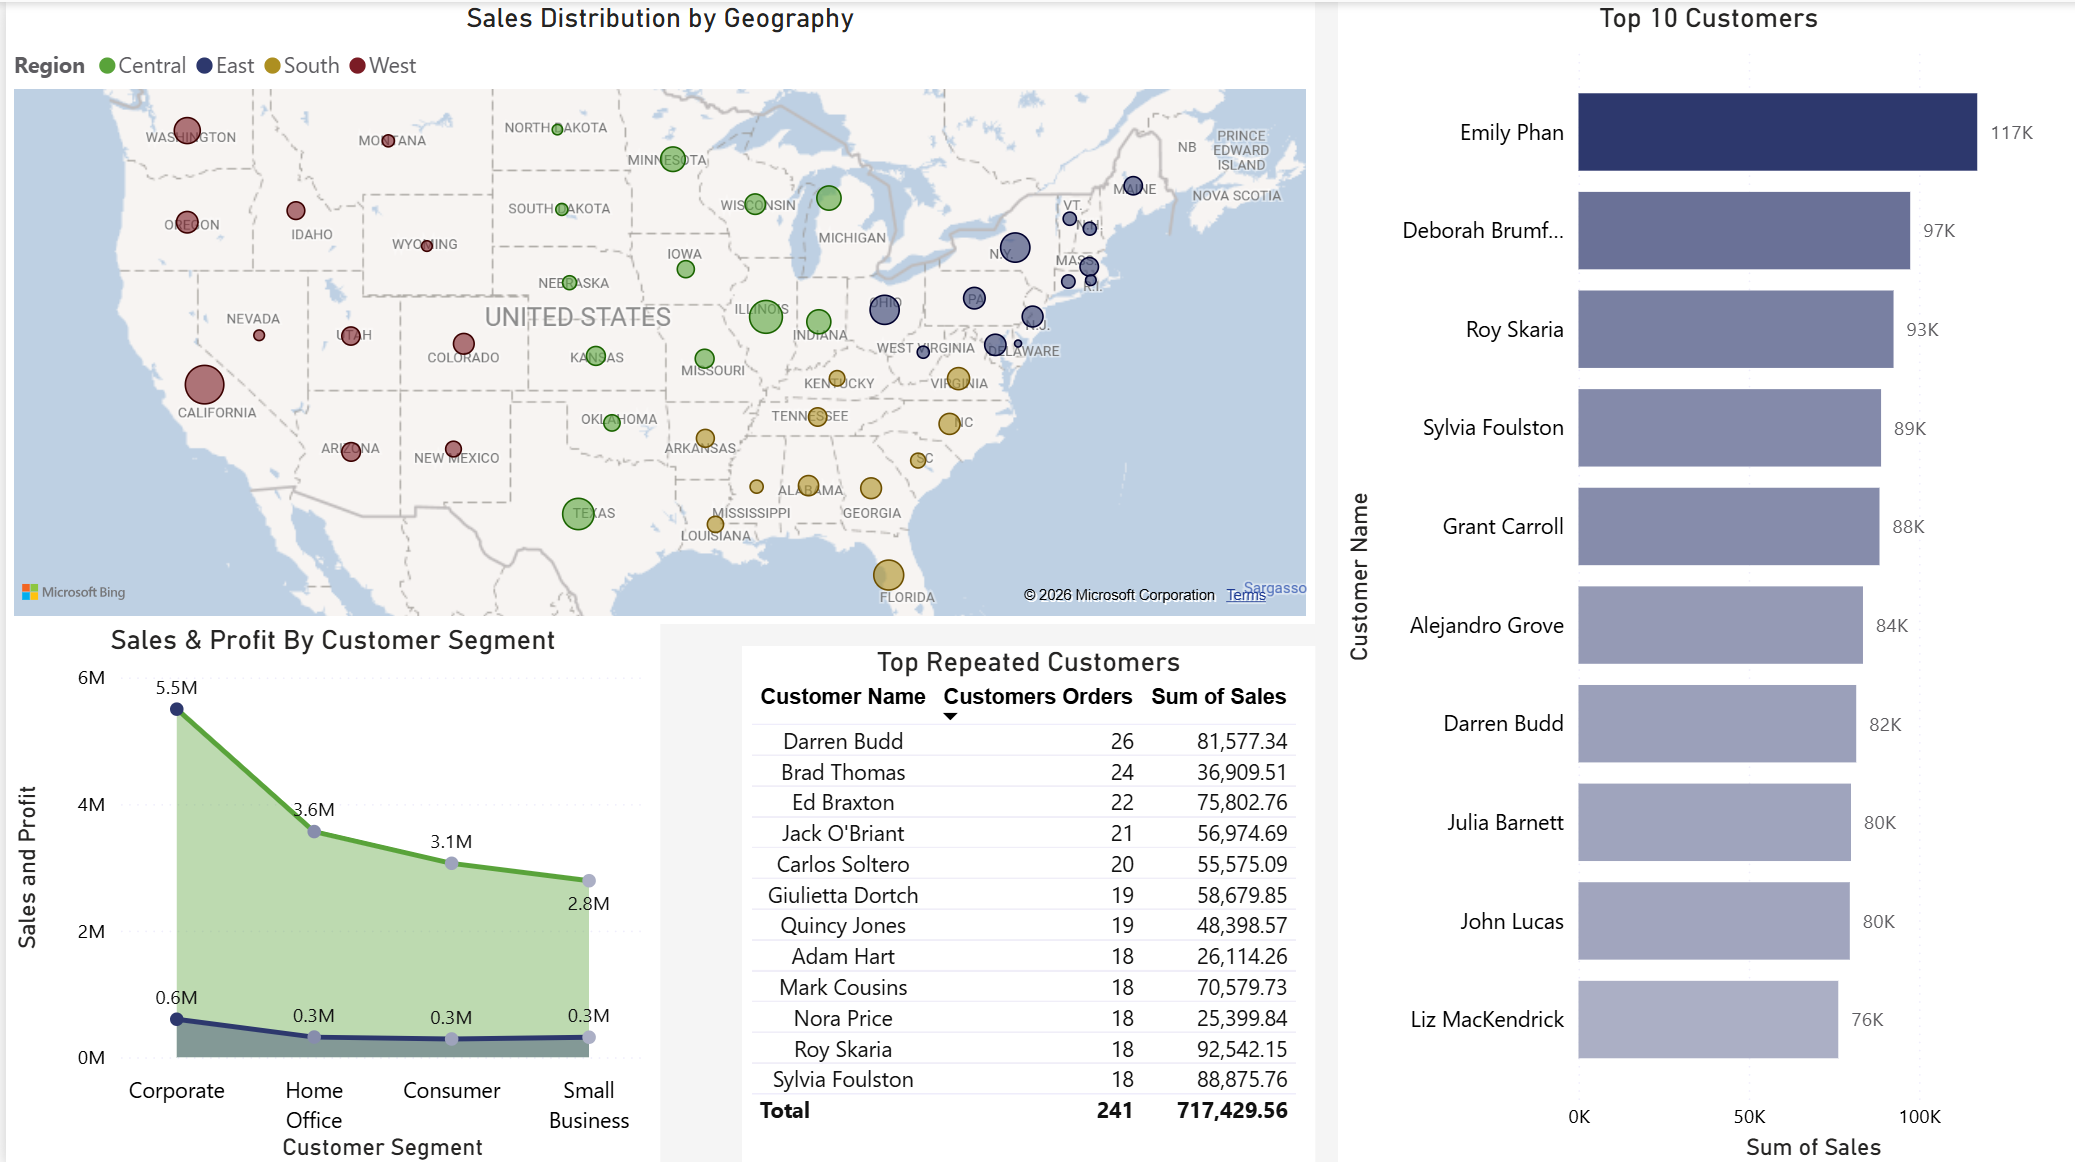

The page's visual inventory and layout, read from the dashboard file:
{"tool":"powerbi","page":{"name":"Customer Analysis","canvas":[1280,720],"ordinal":2},"visuals":[{"type":"clusteredBarChart","title":"Top 10 Customers","fields":{"Category":["Orders.Customer Name"],"Y":["Sum(Orders.Sales)"]},"box":[822,0,458,720],"z":0},{"type":"areaChart","title":"Sales & Profit By Customer Segment","fields":{"Category":["Orders.Customer Segment"],"Y":["Sum(Orders.Sales)","Sum(Orders.Profit)"]},"box":[0,384,404,336],"z":1000},{"type":"map","title":"Sales Distribution by Geography","fields":{"Size":["Sum(Orders.Sales)"],"Series":["Orders.Region"],"Category":["Orders.State"]},"box":[0,0,808,384],"z":2000},{"type":"tableEx","title":"Top Repeated Customers","fields":{"Values":["Orders.Customer Name","Orders.Customers Orders","Sum(Orders.Sales)"]},"box":[454,398,354,322],"z":3000}]}

Visuals, with their boxes in screenshot pixels (x1, y1, x2, y2), scaled from the page's 1280x720 canvas onto the 2075x1162 screenshot:
"Top 10 Customers" clusteredBarChart: locate(1333, 0, 2074, 1161)
"Sales & Profit By Customer Segment" areaChart: locate(0, 620, 655, 1161)
"Sales Distribution by Geography" map: locate(0, 0, 1310, 620)
"Top Repeated Customers" tableEx: locate(736, 642, 1310, 1161)
